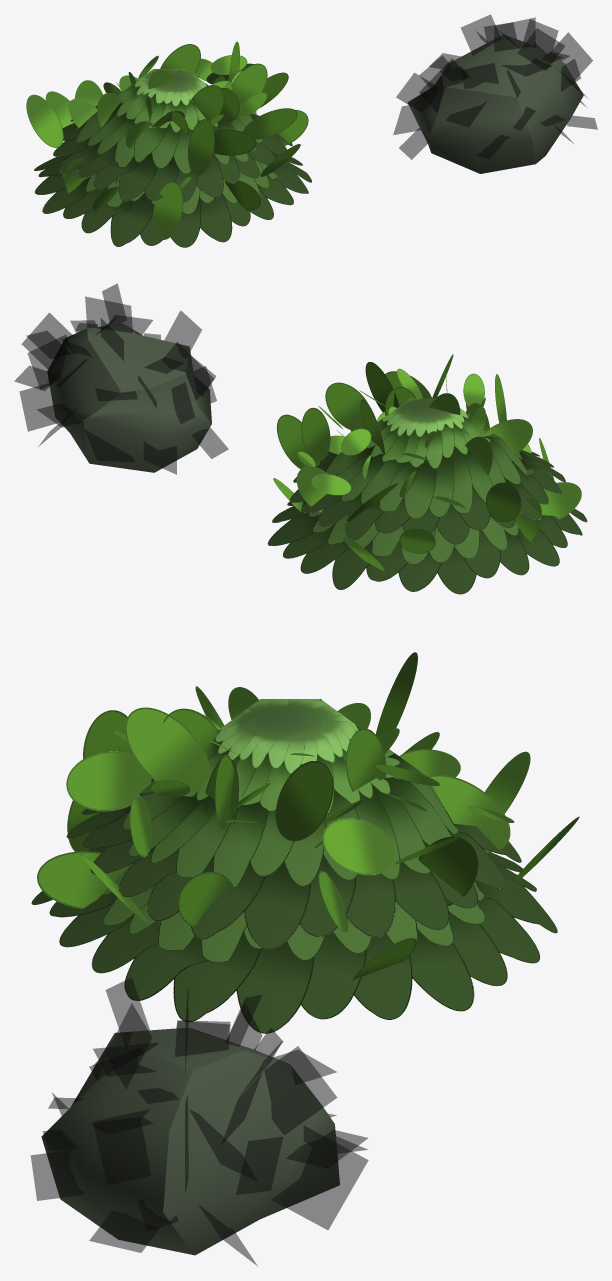
The model's file is NewBushes_FBX.fbx.
The picture shows the model from 3 angles, top to bottom: view 1: azimuth 30°, elevation 25°; view 2: azimuth 150°, elevation 25°; view 3: azimuth 270°, elevation 25°; orthographic projection. The views are drawn at different scales.
Parts seen in each view (by area): view 1: NewBushLeaves, Bushes_Small_WLeaves, NewBushBase_2, Bush_Plane, NewBushBase_1; view 2: NewBushBase_2, Bushes_Small_WLeaves, NewBushLeaves, NewBushBase_1, Bush_Plane; view 3: NewBushBase_2, Bushes_Small_WLeaves, NewBushLeaves, NewBushBase_1, Bush_Plane.
Boxes of the visible parts, x1,y1,x2,y2 form: NewBushLeaves: (26,41,308,239); Bushes_Small_WLeaves: (407,34,583,173); NewBushBase_2: (53,69,292,202); Bush_Plane: (393,14,597,159); NewBushBase_1: (34,150,311,247); NewBushBase_2: (289,398,565,544); Bushes_Small_WLeaves: (47,323,211,472); NewBushLeaves: (273,354,581,571); NewBushBase_1: (267,501,587,594); Bush_Plane: (14,283,228,474); NewBushBase_2: (66,699,521,949); Bushes_Small_WLeaves: (41,1028,339,1255); NewBushLeaves: (37,652,579,980); NewBushBase_1: (31,847,557,1033); Bush_Plane: (31,977,368,1266).
Size of the model in its own units: 869 by 248 by 454.
4 materials, 2 textured.
